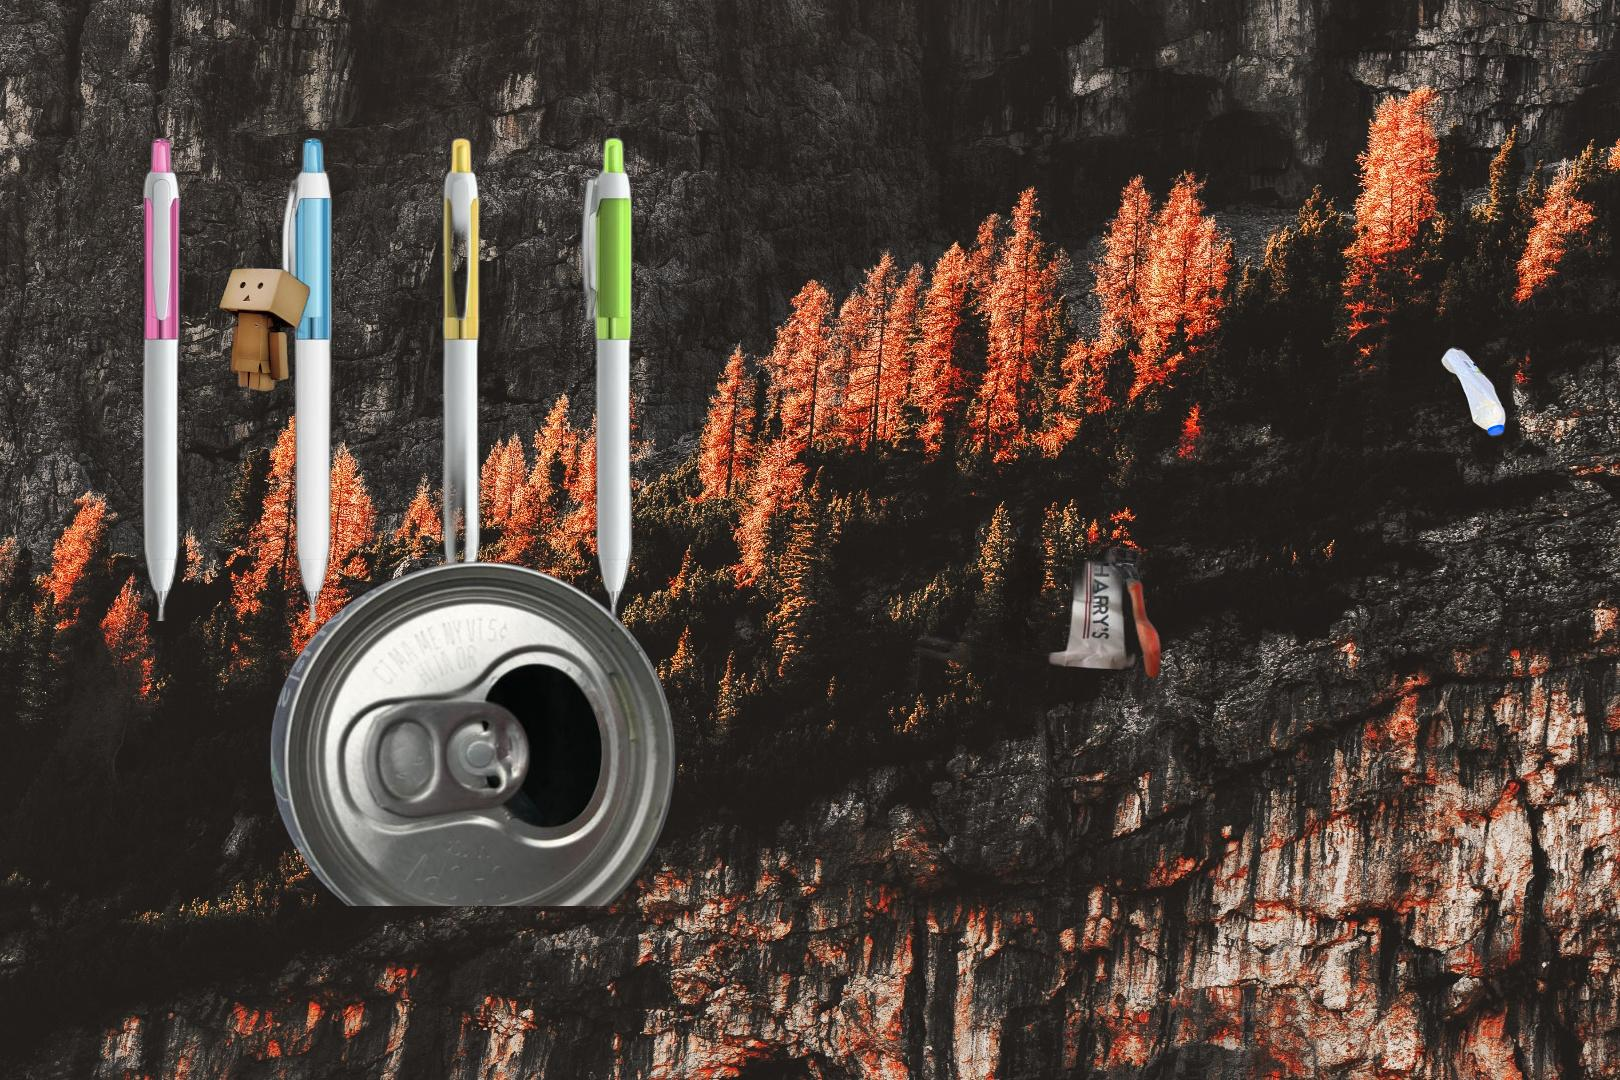metal-cans: (266, 559, 679, 906)
paper: (868, 417, 1364, 691), (547, 1073, 965, 1080)
penholder: (54, 111, 712, 621)
plastic-bottles: (1436, 340, 1510, 444)
trashbox-cardboard: (215, 265, 315, 394)
